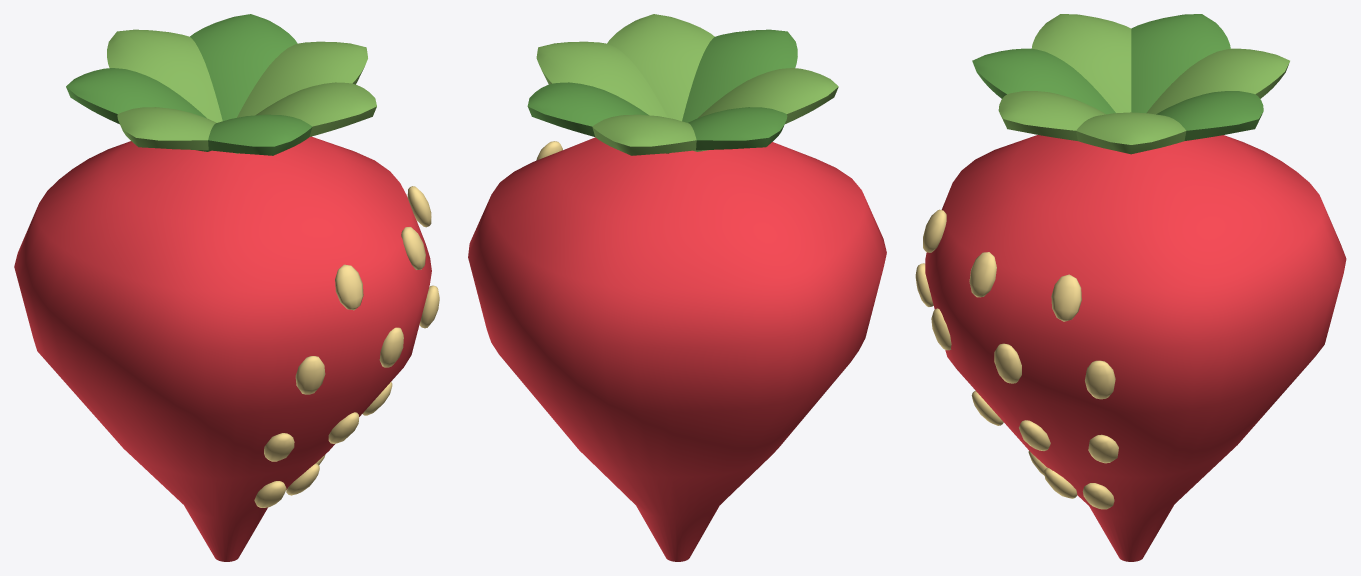
Rendered from strawberry.glb.
The picture shows the model from 3 angles, left to right: view 1: azimuth 30°, elevation 25°; view 2: azimuth 150°, elevation 25°; view 3: azimuth 270°, elevation 25°; orthographic projection.
Parts seen in each view (by area): view 1: Strawberry | heart-shaped berry, Strawberry | green crown.001, Strawberry | green crown.002, Strawberry | green crown, Strawberry | green crown.003, Strawberry | green crown.006, Strawberry | green crown.005, Strawberry | green crown.004, Strawberry | seed.011, Strawberry | seed.007, Strawberry | seed.012, Strawberry | seed.008 (+5 smaller); view 2: Strawberry | heart-shaped berry, Strawberry | green crown.006, Strawberry | green crown.005, Strawberry | green crown, Strawberry | green crown.004, Strawberry | green crown.001, Strawberry | green crown.002, Strawberry | green crown.003; view 3: Strawberry | heart-shaped berry, Strawberry | green crown.004, Strawberry | green crown.003, Strawberry | green crown.002, Strawberry | green crown.005, Strawberry | green crown.001, Strawberry | green crown.006, Strawberry | green crown, Strawberry | seed.013, Strawberry | seed.012, Strawberry | seed.010, Strawberry | seed.009 (+6 smaller).
Part boxes in pixels (x1,y1,x2,y2): Strawberry | heart-shaped berry: [14, 136, 431, 561]; Strawberry | green crown.001: [190, 14, 297, 120]; Strawberry | green crown.002: [107, 29, 222, 122]; Strawberry | green crown: [237, 41, 367, 117]; Strawberry | green crown.003: [66, 68, 206, 124]; Strawberry | green crown.006: [256, 82, 376, 136]; Strawberry | green crown.005: [196, 114, 312, 155]; Strawberry | green crown.004: [117, 107, 238, 153]; Strawberry | seed.011: [335, 264, 363, 310]; Strawberry | seed.007: [295, 356, 325, 394]; Strawberry | seed.012: [401, 227, 425, 269]; Strawberry | seed.008: [379, 327, 403, 367]; Strawberry | heart-shaped berry: [468, 137, 886, 561]; Strawberry | green crown.006: [607, 14, 714, 121]; Strawberry | green crown.005: [682, 29, 797, 122]; Strawberry | green crown: [536, 41, 667, 117]; Strawberry | green crown.004: [698, 68, 838, 123]; Strawberry | green crown.001: [527, 82, 648, 136]; Strawberry | green crown.002: [592, 114, 708, 155]; Strawberry | green crown.003: [666, 107, 787, 153]; Strawberry | heart-shaped berry: [925, 135, 1346, 561]; Strawberry | green crown.004: [1031, 14, 1131, 112]; Strawberry | green crown.003: [1131, 14, 1230, 112]; Strawberry | green crown.002: [1146, 48, 1289, 114]; Strawberry | green crown.005: [972, 48, 1115, 114]; Strawberry | green crown.001: [1156, 91, 1263, 140]; Strawberry | green crown.006: [998, 91, 1105, 140]; Strawberry | green crown: [1076, 112, 1186, 154]; Strawberry | seed.013: [1051, 274, 1081, 321]; Strawberry | seed.012: [969, 252, 996, 297]; Strawberry | seed.010: [1085, 360, 1115, 399]; Strawberry | seed.009: [994, 343, 1021, 383].
Bounding box in the file's own units: 0.8966 × 1.13 × 0.911.
